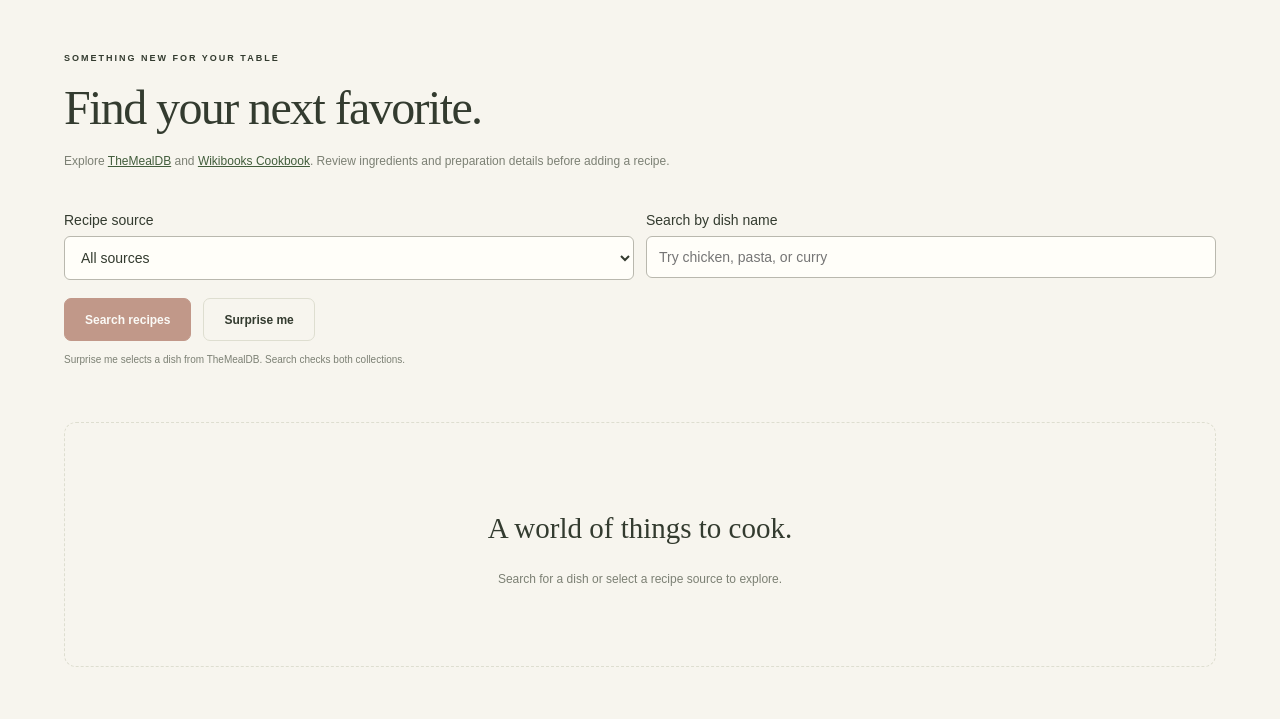
Scenario: combined search keeps available results when one provider fails
Type "rice" into the field labelled "Search by dish name" at (931, 257), box [646, 236, 1216, 278]
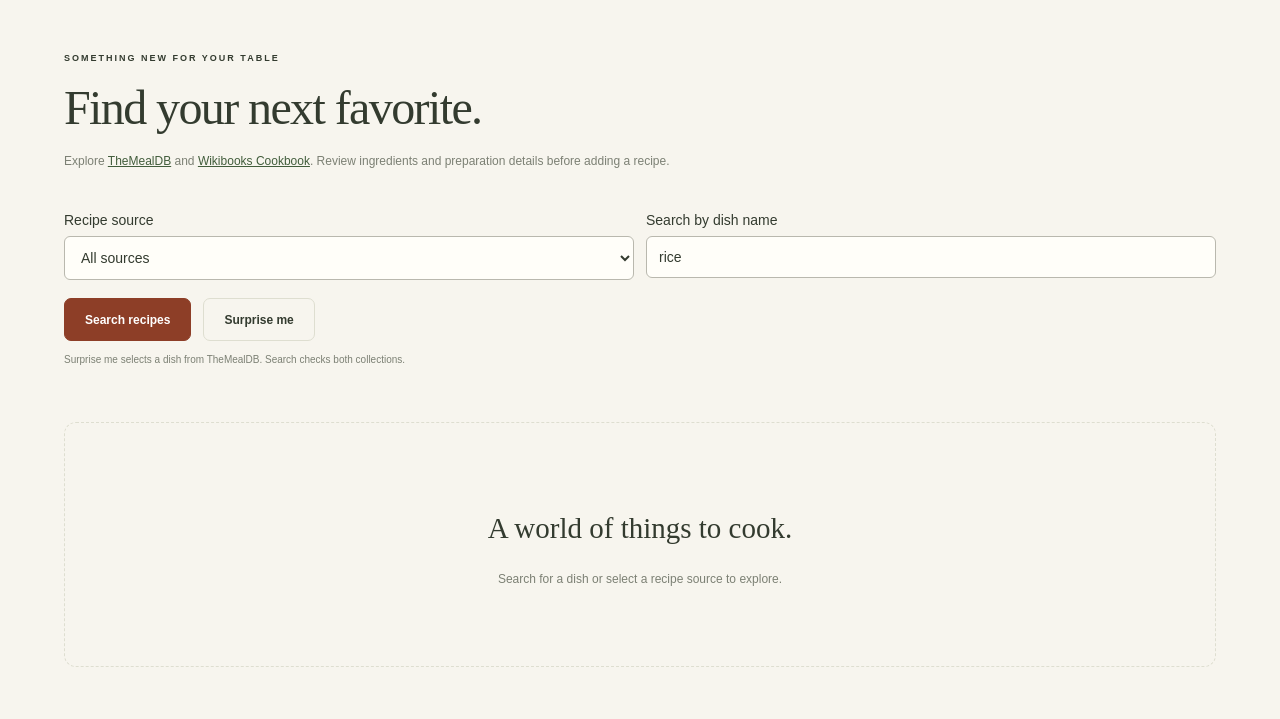
Click the button "Search recipes" at (128, 320), box [64, 298, 191, 341]
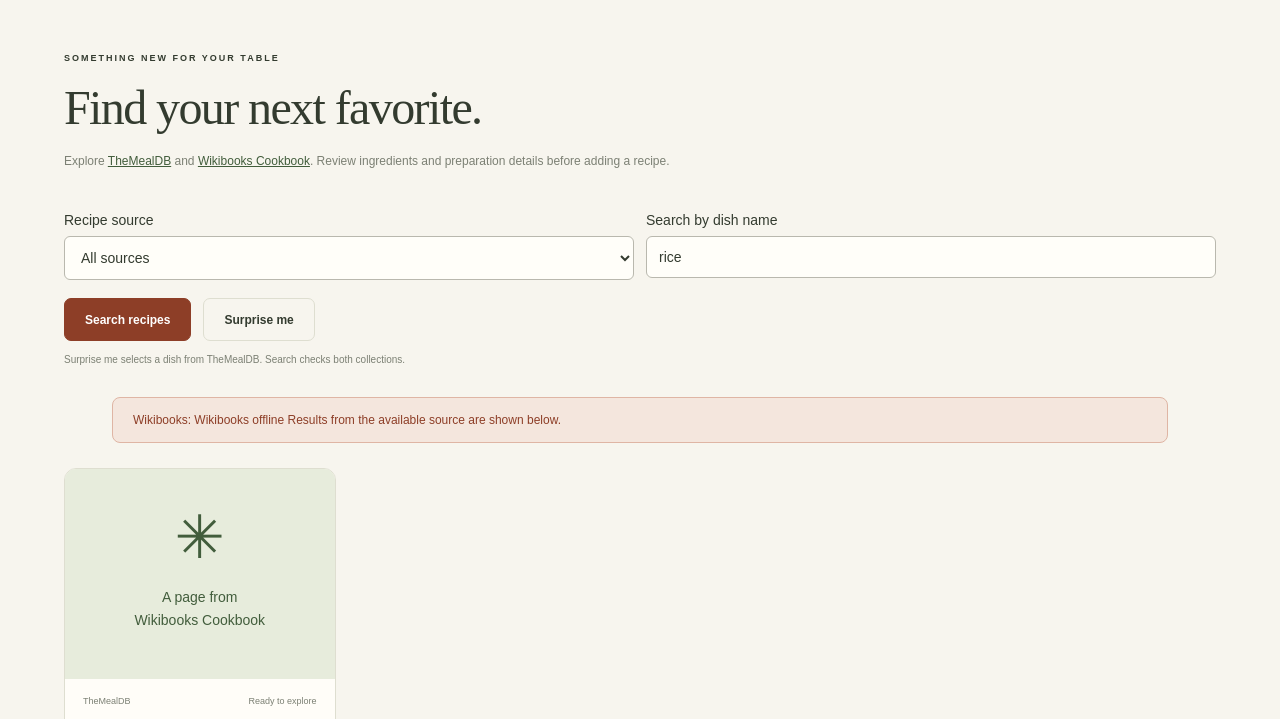
Check: the message shows "Wikibooks offline", box [133, 412, 284, 426]
